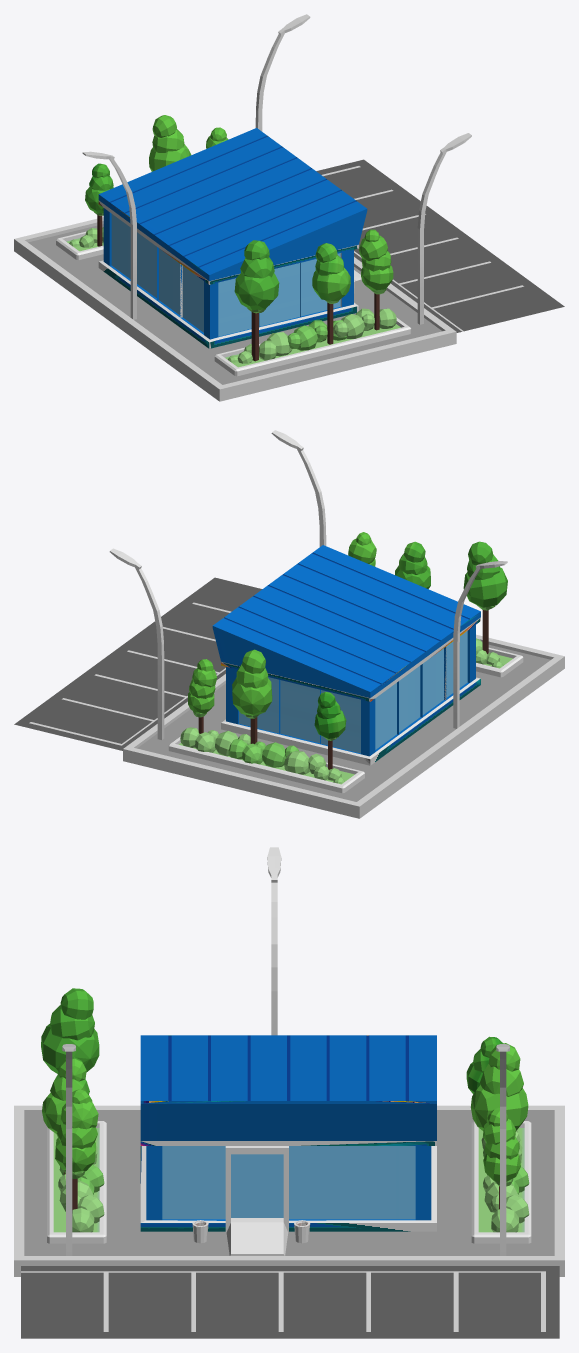
Rendered from building_b.obj.
3 renders of one model, top to bottom at view 1: azimuth 30°, elevation 25°; view 2: azimuth 150°, elevation 25°; view 3: azimuth 270°, elevation 25°, orthographic. The views are drawn at different scales.
Visible parts, largest first — view 1: Shop, Floor.4_3, Floor_3, Tree:3_1, Bed_3, Tree:2_1, Tree:1_1, Tree:2, Light.3_3, Light_3, Bushes.2_1, Tree:3 (+4 smaller); view 2: Shop, Floor.4_3, Floor_3, Tree:2, Tree:3_1, Bed_2, Light.2_3, Tree:1, Bushes, Tree:3, Light_3, Bushes.2 (+5 smaller); view 3: Shop, Floor_3, Floor.4_3, Tree:3_1, Bed_2, Bed_3, Tree:2, Tree:1_1, Tree:1, Tree:2_1, Light.2_3, Light.3_3 (+4 smaller).
Part boxes in pixels (x1=…): Shop: x1=98, y1=128, x2=367, y2=348; Floor.4_3: x1=14, y1=217, x2=456, y2=401; Floor_3: x1=316, y1=159, x2=564, y2=332; Tree:3_1: x1=234, y1=240, x2=279, y2=361; Bed_3: x1=214, y1=317, x2=411, y2=376; Tree:2_1: x1=312, y1=243, x2=350, y2=344; Tree:1_1: x1=359, y1=229, x2=393, y2=330; Tree:2: x1=149, y1=115, x2=191, y2=171; Light.3_3: x1=417, y1=133, x2=471, y2=324; Light_3: x1=82, y1=151, x2=136, y2=319; Bushes.2_1: x1=333, y1=308, x2=396, y2=338; Tree:3: x1=85, y1=163, x2=113, y2=246; Shop: x1=212, y1=545, x2=480, y2=765; Floor.4_3: x1=123, y1=634, x2=564, y2=818; Floor_3: x1=14, y1=577, x2=262, y2=750; Tree:2: x1=232, y1=649, x2=272, y2=744; Tree:3_1: x1=463, y1=541, x2=507, y2=653; Bed_2: x1=168, y1=736, x2=364, y2=793; Light.2_3: x1=109, y1=548, x2=164, y2=739; Tree:1: x1=188, y1=659, x2=217, y2=733; Bushes: x1=228, y1=739, x2=298, y2=767; Tree:3: x1=314, y1=692, x2=346, y2=769; Light_3: x1=453, y1=561, x2=507, y2=728; Bushes.2: x1=180, y1=727, x2=250, y2=756; Shop: x1=140, y1=1035, x2=436, y2=1255; Floor_3: x1=21, y1=1266, x2=559, y2=1338; Floor.4_3: x1=14, y1=1105, x2=564, y2=1276; Tree:3_1: x1=41, y1=988, x2=99, y2=1074; Bed_2: x1=471, y1=1121, x2=531, y2=1243; Bed_3: x1=47, y1=1121, x2=106, y2=1243; Tree:2: x1=470, y1=1043, x2=528, y2=1130; Tree:1_1: x1=55, y1=1089, x2=98, y2=1209; Tree:1: x1=483, y1=1107, x2=520, y2=1209; Tree:2_1: x1=42, y1=1057, x2=92, y2=1174; Light.2_3: x1=496, y1=1044, x2=509, y2=1255; Light.3_3: x1=62, y1=1044, x2=75, y2=1255.
Bounding box in the file's own units: 18.04 × 8.5 × 16.64.
1 material, 1 textured.
